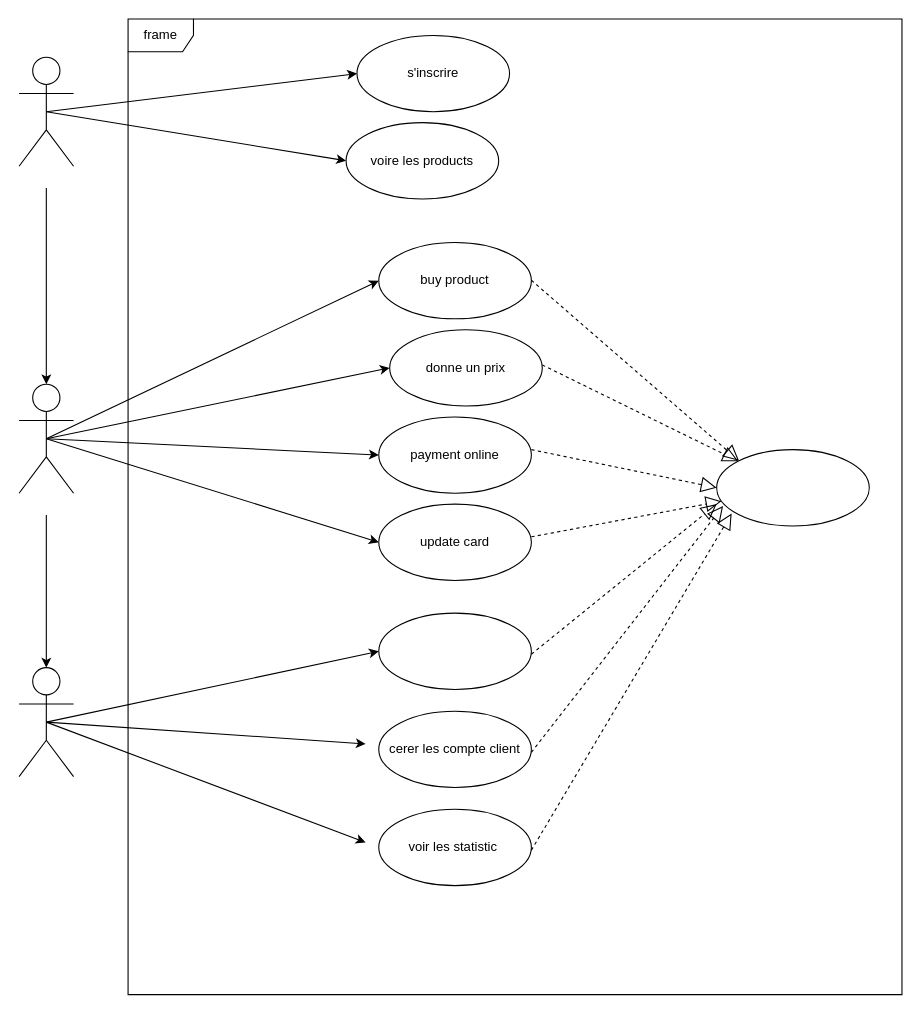
Image size: 921x1014. Some labels were removed from this diagram. Each missing label, with the centre of its shape:
"admin" belongs at point 46,722.
"approve les product" belongs at point 454,650.
"Autheentification" belongs at point 792,487.
"client" belongs at point 46,438.
"visiteur" belongs at point 46,111.
